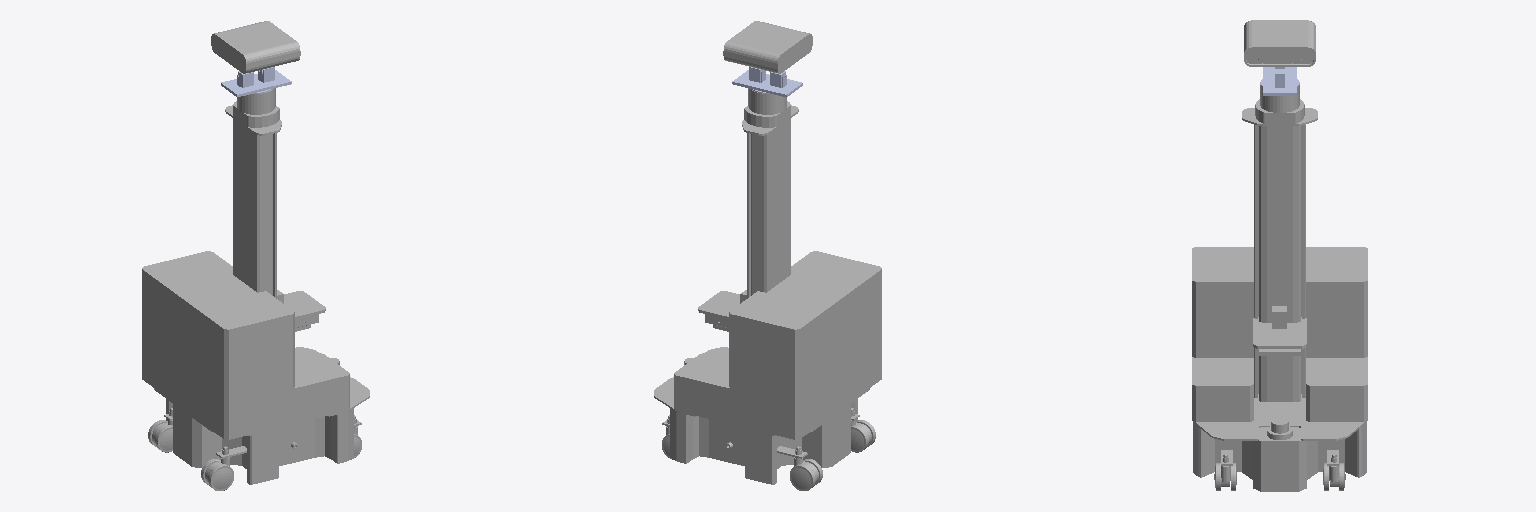
URDF robot description (MOMA_V3_URDF):
<?xml version="1.0" encoding="utf-8"?>
<!-- This URDF was automatically created by SolidWorks to URDF Exporter! Originally created by [author] ([email redacted]) 
     Commit Version: 1.5.1-0-g916b5db  Build Version: 1.5.7152.31018
     For more information, please see http://wiki.ros.org/sw_urdf_exporter -->
<robot
  name="MOMA_V3_URDF">
  <link
    name="moma_base_link">
    <inertial>
      <origin
        xyz="-0.0697248975605124 9.35986032828009E-05 0.186131310444443"
        rpy="0 0 0" />
      <mass
        value="64.9999523677222" />
      <inertia
        ixx="1.35069488959022"
        ixy="0.000479754719690234"
        ixz="1.48197273533961E-06"
        iyy="0.963094057696194"
        iyz="-7.03349014736132E-06"
        izz="1.34062606564175" />
    </inertial>
    <visual>
      <origin
        xyz="0 0 0"
        rpy="0 0 0" />
      <geometry>
        <mesh
          filename="package://minnav_moma_description/meshes/v3/moma_base_link.STL" />
      </geometry>
      <material
        name="">
        <color
          rgba="0.752941176470588 0.752941176470588 0.752941176470588 1" />
      </material>
    </visual>
    <collision>
      <origin
        xyz="0 0 0"
        rpy="0 0 0" />
      <geometry>
        <mesh
          filename="package://minnav_moma_description/meshes/v3/moma_base_link.STL" />
      </geometry>
    </collision>
  </link>
  <link
    name="ArmBase">
    <inertial>
      <origin
        xyz="-0.0272741114005057 0.00094394189111098 -0.0308551972687778"
        rpy="0 0 0" />
      <mass
        value="0.713162476928904" />
      <inertia
        ixx="0.00220534830451126"
        ixy="8.35547600892114E-07"
        ixz="-6.18305224606399E-05"
        iyy="0.00152386550417795"
        iyz="1.06604349141974E-06"
        izz="0.000996301117911694" />
    </inertial>
    <visual>
      <origin
        xyz="0 0 0"
        rpy="0 0 0" />
      <geometry>
        <mesh
          filename="package://minnav_moma_description/meshes/v3/ArmBase.STL" />
      </geometry>
      <material
        name="">
        <color
          rgba="0.752941176470588 0.752941176470588 0.752941176470588 1" />
      </material>
    </visual>
    <collision>
      <origin
        xyz="0 0 0"
        rpy="0 0 0" />
      <geometry>
        <mesh
          filename="package://minnav_moma_description/meshes/v3/ArmBase.STL" />
      </geometry>
    </collision>
  </link>
  <joint
    name="JT_ArmBase"
    type="prismatic">
    <origin
      xyz="0.034 -0.001 0.3335"
      rpy="0 0 0" />
    <parent
      link="moma_base_link" />
    <child
      link="ArmBase" />
    <axis
      xyz="0 0 1" />
    <limit
      lower="0"
      upper="0.49"
      effort="0"
      velocity="0" />
  </joint>
  <link
    name="LIDAR">
    <inertial>
      <origin
        xyz="8.22216969754708E-05 0.0195154420160331 3.427162408858E-09"
        rpy="0 0 0" />
      <mass
        value="0.102883853456169" />
      <inertia
        ixx="3.66225482144748E-05"
        ixy="1.0587412031796E-07"
        ixz="-3.58548249909878E-12"
        iyy="4.69758377443588E-05"
        iyz="-6.02604694180553E-13"
        izz="3.69805831442243E-05" />
    </inertial>
    <visual>
      <origin
        xyz="0 0 0"
        rpy="0 0 0" />
      <geometry>
        <mesh
          filename="package://minnav_moma_description/meshes/v3/LIDAR.STL" />
      </geometry>
      <material
        name="">
        <color
          rgba="0.752941176470588 0.752941176470588 0.752941176470588 1" />
      </material>
    </visual>
    <collision>
      <origin
        xyz="0 0 0"
        rpy="0 0 0" />
      <geometry>
        <mesh
          filename="package://minnav_moma_description/meshes/v3/LIDAR.STL" />
      </geometry>
    </collision>
  </link>
  <joint
    name="JT_LIDAR"
    type="fixed">
    <origin
      xyz="0.213 0 0.0905"
      rpy="1.5708 0 3.1416" />
    <parent
      link="moma_base_link" />
    <child
      link="LIDAR" />
    <axis
      xyz="0 0 0" />
  </joint>
  <link
    name="Pantilt_PanLink">
    <inertial>
      <origin
        xyz="2.18543483591707E-12 9.36750677027476E-17 0.022419493625198"
        rpy="0 0 0" />
      <mass
        value="0.125638006386443" />
      <inertia
        ixx="5.7984036976015E-05"
        ixy="-4.95095367264507E-09"
        ixz="1.26449088862416E-16"
        iyy="0.000158965664023198"
        iyz="9.95930618769165E-20"
        izz="0.000150893790612493" />
    </inertial>
    <visual>
      <origin
        xyz="0 0 0"
        rpy="0 0 0" />
      <geometry>
        <mesh
          filename="package://minnav_moma_description/meshes/v3/Pantilt_PanLink.STL" />
      </geometry>
      <material
        name="">
        <color
          rgba="0.796078431372549 0.823529411764706 0.937254901960784 1" />
      </material>
    </visual>
    <collision>
      <origin
        xyz="0 0 0"
        rpy="0 0 0" />
      <geometry>
        <mesh
          filename="package://minnav_moma_description/meshes/v3/Pantilt_PanLink.STL" />
      </geometry>
    </collision>
  </link>
  <joint
    name="JT_Pantilt_PanLink"
    type="continuous">
    <origin
      xyz="-0.021 0 1.0081"
      rpy="0 0 -1.5708" />
    <parent
      link="moma_base_link" />
    <child
      link="Pantilt_PanLink" />
    <axis
      xyz="0 0 1" />
  </joint>
  <link
    name="Pantilt_TiltLink">
    <inertial>
      <origin
        xyz="-2.25379299249759E-12 0.031479884333478 1.20049803431499E-13"
        rpy="0 0 0" />
      <mass
        value="0.119003363420873" />
      <inertia
        ixx="7.90464190146043E-05"
        ixy="-3.79029998872968E-16"
        ixz="7.60779981349867E-19"
        iyy="0.00035798448028944"
        iyz="2.37471710121675E-16"
        izz="0.00028284413383159" />
    </inertial>
    <visual>
      <origin
        xyz="0 0 0"
        rpy="0 0 0" />
      <geometry>
        <mesh
          filename="package://minnav_moma_description/meshes/v3/Pantilt_TiltLink.STL" />
      </geometry>
      <material
        name="">
        <color
          rgba="0.796078431372549 0.823529411764706 0.937254901960784 1" />
      </material>
    </visual>
    <collision>
      <origin
        xyz="0 0 0"
        rpy="0 0 0" />
      <geometry>
        <mesh
          filename="package://minnav_moma_description/meshes/v3/Pantilt_TiltLink.STL" />
      </geometry>
    </collision>
  </link>
  <joint
    name="JT_Pantilt_TiltLink"
    type="continuous">
    <origin
      xyz="0 0.00025 0.0413"
      rpy="1.5708 0 3.1416" />
    <parent
      link="Pantilt_PanLink" />
    <child
      link="Pantilt_TiltLink" />
    <axis
      xyz="1 0 0" />
  </joint>
  <link
    name="Head">
    <inertial>
      <origin
        xyz="7.01161821037004E-06 -0.00244242053568144 -0.0752179075942135"
        rpy="0 0 0" />
      <mass
        value="0.398951454797707" />
      <inertia
        ixx="0.000860013559453623"
        ixy="-2.53668430914557E-08"
        ixz="1.00973665605483E-07"
        iyy="0.0018274751159565"
        iyz="5.23242580668497E-06"
        izz="0.0012846248952368" />
    </inertial>
    <visual>
      <origin
        xyz="0 0 0"
        rpy="0 0 0" />
      <geometry>
        <mesh
          filename="package://minnav_moma_description/meshes/v3/Head.STL" />
      </geometry>
      <material
        name="">
        <color
          rgba="0.752941176470588 0.752941176470588 0.752941176470588 1" />
      </material>
    </visual>
    <collision>
      <origin
        xyz="0 0 0"
        rpy="0 0 0" />
      <geometry>
        <mesh
          filename="package://minnav_moma_description/meshes/v3/Head.STL" />
      </geometry>
    </collision>
  </link>
  <joint
    name="JT_Head"
    type="fixed">
    <origin
      xyz="0 0.0705 0.0795"
      rpy="0 0 0" />
    <parent
      link="Pantilt_TiltLink" />
    <child
      link="Head" />
    <axis
      xyz="0 0 0" />
  </joint>
  <link
    name="UniwheelPivot_LF">
    <inertial>
      <origin
        xyz="-9.15933995315754E-16 0.0182260960322876 -0.0642291000155078"
        rpy="0 0 0" />
      <mass
        value="0.0847351495375798" />
      <inertia
        ixx="6.07135705376024E-05"
        ixy="1.38064990757287E-18"
        ixz="-6.23412902781099E-19"
        iyy="3.49474283390521E-05"
        iyz="1.16340041790674E-05"
        izz="3.34756139191197E-05" />
    </inertial>
    <visual>
      <origin
        xyz="0 0 0"
        rpy="0 0 0" />
      <geometry>
        <mesh
          filename="package://minnav_moma_description/meshes/v3/UniwheelPivot_LF.STL" />
      </geometry>
      <material
        name="">
        <color
          rgba="0.752941176470588 0.752941176470588 0.752941176470588 1" />
      </material>
    </visual>
    <collision>
      <origin
        xyz="0 0 0"
        rpy="0 0 0" />
      <geometry>
        <mesh
          filename="package://minnav_moma_description/meshes/v3/UniwheelPivot_LF.STL" />
      </geometry>
    </collision>
  </link>
  <joint
    name="JT_UniwheelPivot_LF"
    type="continuous">
    <origin
      xyz="0.2 0.1435 0.031"
      rpy="0 0 1.5708" />
    <parent
      link="moma_base_link" />
    <child
      link="UniwheelPivot_LF" />
    <axis
      xyz="0 0 1" />
  </joint>
  <link
    name="UniWheel_LF">
    <inertial>
      <origin
        xyz="3.81426298323717E-08 -2.14332611103707E-08 -1.63217898571655E-08"
        rpy="0 0 0" />
      <mass
        value="0.131455385710739" />
      <inertia
        ixx="4.67614248550029E-05"
        ixy="2.92736299371043E-11"
        ixz="-4.25507933450125E-11"
        iyy="8.85134139088376E-05"
        iyz="-1.15416488880503E-11"
        izz="4.6763063659093E-05" />
    </inertial>
    <visual>
      <origin
        xyz="0 0 0"
        rpy="0 0 0" />
      <geometry>
        <mesh
          filename="package://minnav_moma_description/meshes/v3/UniWheel_LF.STL" />
      </geometry>
      <material
        name="">
        <color
          rgba="0.752941176470588 0.752941176470588 0.752941176470588 1" />
      </material>
    </visual>
    <collision>
      <origin
        xyz="0 0 0"
        rpy="0 0 0" />
      <geometry>
        <mesh
          filename="package://minnav_moma_description/meshes/v3/UniWheel_LF.STL" />
      </geometry>
    </collision>
  </link>
  <joint
    name="JT_UniWheel_LF"
    type="continuous">
    <origin
      xyz="0 0.024 -0.0775"
      rpy="0 -0.11262 1.5708" />
    <parent
      link="UniwheelPivot_LF" />
    <child
      link="UniWheel_LF" />
    <axis
      xyz="0 1 0" />
  </joint>
  <link
    name="UniwheelPivot_RB">
    <inertial>
      <origin
        xyz="-9.71445146547012E-16 0.0182260960322876 -0.0642291000155078"
        rpy="0 0 0" />
      <mass
        value="0.0847351495375797" />
      <inertia
        ixx="6.07135705376023E-05"
        ixy="1.38866328531335E-18"
        ixz="-6.29343822979503E-19"
        iyy="3.4947428339052E-05"
        iyz="1.16340041790674E-05"
        izz="3.34756139191196E-05" />
    </inertial>
    <visual>
      <origin
        xyz="0 0 0"
        rpy="0 0 0" />
      <geometry>
        <mesh
          filename="package://minnav_moma_description/meshes/v3/UniwheelPivot_RB.STL" />
      </geometry>
      <material
        name="">
        <color
          rgba="0.752941176470588 0.752941176470588 0.752941176470588 1" />
      </material>
    </visual>
    <collision>
      <origin
        xyz="0 0 0"
        rpy="0 0 0" />
      <geometry>
        <mesh
          filename="package://minnav_moma_description/meshes/v3/UniwheelPivot_RB.STL" />
      </geometry>
    </collision>
  </link>
  <joint
    name="JT_UniwheelPivot_RB"
    type="continuous">
    <origin
      xyz="-0.2 -0.1435 0.031"
      rpy="0 0 1.5708" />
    <parent
      link="moma_base_link" />
    <child
      link="UniwheelPivot_RB" />
    <axis
      xyz="0 0 1" />
  </joint>
  <link
    name="Uniwheel_RB">
    <inertial>
      <origin
        xyz="3.8142629943394E-08 -2.14332609993484E-08 -1.63217898641044E-08"
        rpy="0 0 0" />
      <mass
        value="0.131455385710739" />
      <inertia
        ixx="4.67614248550025E-05"
        ixy="2.92736298794068E-11"
        ixz="-4.25507933484007E-11"
        iyy="8.85134139088377E-05"
        iyz="-1.15416488244326E-11"
        izz="4.67630636590926E-05" />
    </inertial>
    <visual>
      <origin
        xyz="0 0 0"
        rpy="0 0 0" />
      <geometry>
        <mesh
          filename="package://minnav_moma_description/meshes/v3/Uniwheel_RB.STL" />
      </geometry>
      <material
        name="">
        <color
          rgba="0.752941176470588 0.752941176470588 0.752941176470588 1" />
      </material>
    </visual>
    <collision>
      <origin
        xyz="0 0 0"
        rpy="0 0 0" />
      <geometry>
        <mesh
          filename="package://minnav_moma_description/meshes/v3/Uniwheel_RB.STL" />
      </geometry>
    </collision>
  </link>
  <joint
    name="JT_Uniwheel_RB"
    type="continuous">
    <origin
      xyz="0 0.024 -0.0775"
      rpy="0 -0.11262 1.5708" />
    <parent
      link="UniwheelPivot_RB" />
    <child
      link="Uniwheel_RB" />
    <axis
      xyz="0 1 0" />
  </joint>
  <link
    name="UniwheelPivot_RF">
    <inertial>
      <origin
        xyz="-9.15933995315754E-16 0.0182260960322876 -0.0642291000155078"
        rpy="0 0 0" />
      <mass
        value="0.0847351495375797" />
      <inertia
        ixx="6.07135705376022E-05"
        ixy="1.3856374474727E-18"
        ixz="-6.2925381710409E-19"
        iyy="3.4947428339052E-05"
        iyz="1.16340041790674E-05"
        izz="3.34756139191196E-05" />
    </inertial>
    <visual>
      <origin
        xyz="0 0 0"
        rpy="0 0 0" />
      <geometry>
        <mesh
          filename="package://minnav_moma_description/meshes/v3/UniwheelPivot_RF.STL" />
      </geometry>
      <material
        name="">
        <color
          rgba="0.752941176470588 0.752941176470588 0.752941176470588 1" />
      </material>
    </visual>
    <collision>
      <origin
        xyz="0 0 0"
        rpy="0 0 0" />
      <geometry>
        <mesh
          filename="package://minnav_moma_description/meshes/v3/UniwheelPivot_RF.STL" />
      </geometry>
    </collision>
  </link>
  <joint
    name="JT_UniwheelPivot_RF"
    type="continuous">
    <origin
      xyz="0.2 -0.1435 0.031"
      rpy="0 0 1.5708" />
    <parent
      link="moma_base_link" />
    <child
      link="UniwheelPivot_RF" />
    <axis
      xyz="0 0 1" />
  </joint>
  <link
    name="Uniwheel_RF">
    <inertial>
      <origin
        xyz="3.81426298323717E-08 -2.14332610826151E-08 -1.63217898641044E-08"
        rpy="0 0 0" />
      <mass
        value="0.131455385710739" />
      <inertia
        ixx="4.67614248550028E-05"
        ixy="2.92736299627237E-11"
        ixz="-4.25507933403539E-11"
        iyy="8.85134139088377E-05"
        iyz="-1.15416488470831E-11"
        izz="4.67630636590929E-05" />
    </inertial>
    <visual>
      <origin
        xyz="0 0 0"
        rpy="0 0 0" />
      <geometry>
        <mesh
          filename="package://minnav_moma_description/meshes/v3/Uniwheel_RF.STL" />
      </geometry>
      <material
        name="">
        <color
          rgba="0.752941176470588 0.752941176470588 0.752941176470588 1" />
      </material>
    </visual>
    <collision>
      <origin
        xyz="0 0 0"
        rpy="0 0 0" />
      <geometry>
        <mesh
          filename="package://minnav_moma_description/meshes/v3/Uniwheel_RF.STL" />
      </geometry>
    </collision>
  </link>
  <joint
    name="JT_Uniwheel_RF"
    type="continuous">
    <origin
      xyz="0 0.024 -0.0775"
      rpy="0 -0.11262 1.5708" />
    <parent
      link="UniwheelPivot_RF" />
    <child
      link="Uniwheel_RF" />
    <axis
      xyz="0 1 0" />
  </joint>
  <link
    name="UniwheelPivot_LB">
    <inertial>
      <origin
        xyz="2.77555756156289E-17 0.0182260960322876 -0.0642291000155078"
        rpy="0 0 0" />
      <mass
        value="0.0847351495375797" />
      <inertia
        ixx="6.07135705376023E-05"
        ixy="3.39738839740087E-20"
        ixz="-1.64218142542497E-20"
        iyy="3.4947428339052E-05"
        iyz="1.16340041790674E-05"
        izz="3.34756139191196E-05" />
    </inertial>
    <visual>
      <origin
        xyz="0 0 0"
        rpy="0 0 0" />
      <geometry>
        <mesh
          filename="package://minnav_moma_description/meshes/v3/UniwheelPivot_LB.STL" />
      </geometry>
      <material
        name="">
        <color
          rgba="0.752941176470588 0.752941176470588 0.752941176470588 1" />
      </material>
    </visual>
    <collision>
      <origin
        xyz="0 0 0"
        rpy="0 0 0" />
      <geometry>
        <mesh
          filename="package://minnav_moma_description/meshes/v3/UniwheelPivot_LB.STL" />
      </geometry>
    </collision>
  </link>
  <joint
    name="JT_UniwheelPivot_LB"
    type="continuous">
    <origin
      xyz="-0.2 0.1435 0.031"
      rpy="0 0 1.5708" />
    <parent
      link="moma_base_link" />
    <child
      link="UniwheelPivot_LB" />
    <axis
      xyz="0 0 1" />
  </joint>
  <link
    name="Uniwheel_LB">
    <inertial>
      <origin
        xyz="3.81426298601273E-08 -2.14332609993484E-08 -1.63217898502266E-08"
        rpy="0 0 0" />
      <mass
        value="0.131455385710739" />
      <inertia
        ixx="4.67614248550029E-05"
        ixy="2.92736298697553E-11"
        ixz="-4.25507933407774E-11"
        iyy="8.85134139088378E-05"
        iyz="-1.15416488421917E-11"
        izz="4.6763063659093E-05" />
    </inertial>
    <visual>
      <origin
        xyz="0 0 0"
        rpy="0 0 0" />
      <geometry>
        <mesh
          filename="package://minnav_moma_description/meshes/v3/Uniwheel_LB.STL" />
      </geometry>
      <material
        name="">
        <color
          rgba="0.752941176470588 0.752941176470588 0.752941176470588 1" />
      </material>
    </visual>
    <collision>
      <origin
        xyz="0 0 0"
        rpy="0 0 0" />
      <geometry>
        <mesh
          filename="package://minnav_moma_description/meshes/v3/Uniwheel_LB.STL" />
      </geometry>
    </collision>
  </link>
  <joint
    name="JT_Uniwheel_LB"
    type="continuous">
    <origin
      xyz="0 0.024 -0.0775"
      rpy="0 -0.11262 1.5708" />
    <parent
      link="UniwheelPivot_LB" />
    <child
      link="Uniwheel_LB" />
    <axis
      xyz="0 1 0" />
  </joint>
  <link
    name="DriWheel_L">
    <inertial>
      <origin
        xyz="0.032101869390081 1.4050399616472E-08 -5.67027796697117E-09"
        rpy="0 0 0" />
      <mass
        value="0.55025375587753" />
      <inertia
        ixx="0.00101587186790134"
        ixy="-1.42117906446844E-09"
        ixz="2.42189453861389E-09"
        iyy="0.000590551548666396"
        iyz="8.57135076871467E-09"
        izz="0.000590534709673099" />
    </inertial>
    <visual>
      <origin
        xyz="0 0 0"
        rpy="0 0 0" />
      <geometry>
        <mesh
          filename="package://minnav_moma_description/meshes/v3/DriWheel_L.STL" />
      </geometry>
      <material
        name="">
        <color
          rgba="0.752941176470588 0.752941176470588 0.752941176470588 1" />
      </material>
    </visual>
    <collision>
      <origin
        xyz="0 0 0"
        rpy="0 0 0" />
      <geometry>
        <mesh
          filename="package://minnav_moma_description/meshes/v3/DriWheel_L.STL" />
      </geometry>
    </collision>
  </link>
  <joint
    name="JT_DriWheel_L"
    type="continuous">
    <origin
      xyz="0 0.1711 0"
      rpy="1.5708 0 1.5708" />
    <parent
      link="moma_base_link" />
    <child
      link="DriWheel_L" />
    <axis
      xyz="1 0 0" />
  </joint>
  <link
    name="DriWheel_R">
    <inertial>
      <origin
        xyz="-0.032101869390081 1.40503995866108E-08 5.67027798698556E-09"
        rpy="0 0 0" />
      <mass
        value="0.550253755877532" />
      <inertia
        ixx="0.00101587186790135"
        ixy="1.42117906464977E-09"
        ixz="2.42189453862527E-09"
        iyy="0.000590551548666399"
        iyz="-8.57135076864949E-09"
        izz="0.000590534709673102" />
    </inertial>
    <visual>
      <origin
        xyz="0 0 0"
        rpy="0 0 0" />
      <geometry>
        <mesh
          filename="package://minnav_moma_description/meshes/v3/DriWheel_R.STL" />
      </geometry>
      <material
        name="">
        <color
          rgba="0.752941176470588 0.752941176470588 0.752941176470588 1" />
      </material>
    </visual>
    <collision>
      <origin
        xyz="0 0 0"
        rpy="0 0 0" />
      <geometry>
        <mesh
          filename="package://minnav_moma_description/meshes/v3/DriWheel_R.STL" />
      </geometry>
    </collision>
  </link>
  <joint
    name="JT_DriWheel_R"
    type="continuous">
    <origin
      xyz="0 -0.1711 0"
      rpy="1.5708 0 1.5708" />
    <parent
      link="moma_base_link" />
    <child
      link="DriWheel_R" />
    <axis
      xyz="1 0 0" />
  </joint>
</robot>

--- Facts derived from the render (not from the file) ---
3 views of the same robot in one strip: view 1: azimuth 30°, elevation 25°; view 2: azimuth 150°, elevation 25°; view 3: azimuth 270°, elevation 25° (orthographic).
Robot: MOMA_V3_URDF — 16 links, 15 joints (12 continuous, 1 prismatic, 2 fixed); root link moma_base_link; default pose: all joints at 0.
Visible links, largest first — view 1: moma_base_link, Head, ArmBase, Pantilt_TiltLink, Uniwheel_RB, Uniwheel_LB; view 2: moma_base_link, Head, ArmBase, Pantilt_TiltLink, Uniwheel_LB, Uniwheel_RB; view 3: moma_base_link, Head, ArmBase, Pantilt_TiltLink.
Boxes of the visible links, bbox=[...] form: moma_base_link: bbox=[142, 88, 369, 484]; Head: bbox=[211, 21, 300, 73]; ArmBase: bbox=[277, 290, 325, 331]; Pantilt_TiltLink: bbox=[221, 70, 291, 96]; Uniwheel_RB: bbox=[201, 459, 233, 490]; Uniwheel_LB: bbox=[148, 420, 172, 452]; moma_base_link: bbox=[654, 88, 881, 484]; Head: bbox=[723, 21, 812, 73]; ArmBase: bbox=[698, 290, 746, 331]; Pantilt_TiltLink: bbox=[732, 70, 802, 97]; Uniwheel_LB: bbox=[790, 459, 822, 490]; Uniwheel_RB: bbox=[851, 420, 875, 452]; moma_base_link: bbox=[1192, 82, 1367, 491]; Head: bbox=[1244, 20, 1315, 66]; ArmBase: bbox=[1253, 306, 1306, 365]; Pantilt_TiltLink: bbox=[1263, 67, 1296, 95].
Size in the robot's own frame: 0.5115 by 0.466 by 1.24 metres.
14 mesh visuals loaded from 16 distinct referenced files (14 binary STL); not drawn: 2 (reference not matched to a file when rendering).